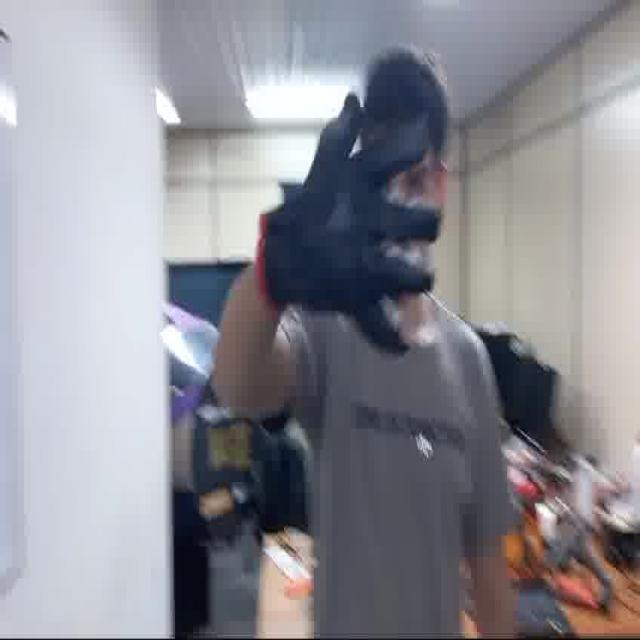Gloves: (258, 90, 441, 369)
